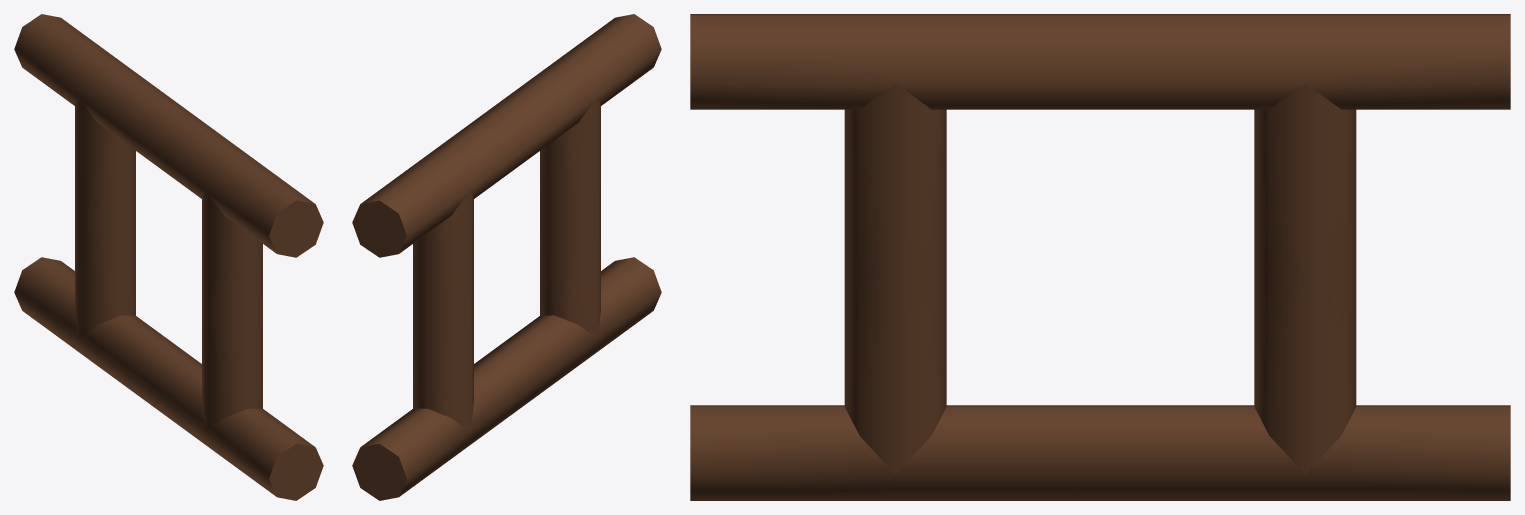
Rendered from MeshDoorwayHandle_8_1.obj.
3 views of the same model, side by side, from view 1: azimuth 30°, elevation 25°; view 2: azimuth 150°, elevation 25°; view 3: azimuth 270°, elevation 25° (orthographic). The views are drawn at different scales.
Visible parts, largest first — view 1: DoorwayHandle_8; view 2: DoorwayHandle_8; view 3: DoorwayHandle_8.
Part boxes in pixels (x1,y1,x2,y2): DoorwayHandle_8: (14,14,323,500); DoorwayHandle_8: (352,14,661,500); DoorwayHandle_8: (690,14,1510,500).
Bounding box in the file's own units: 0.033 × 0.173 × 0.266.
